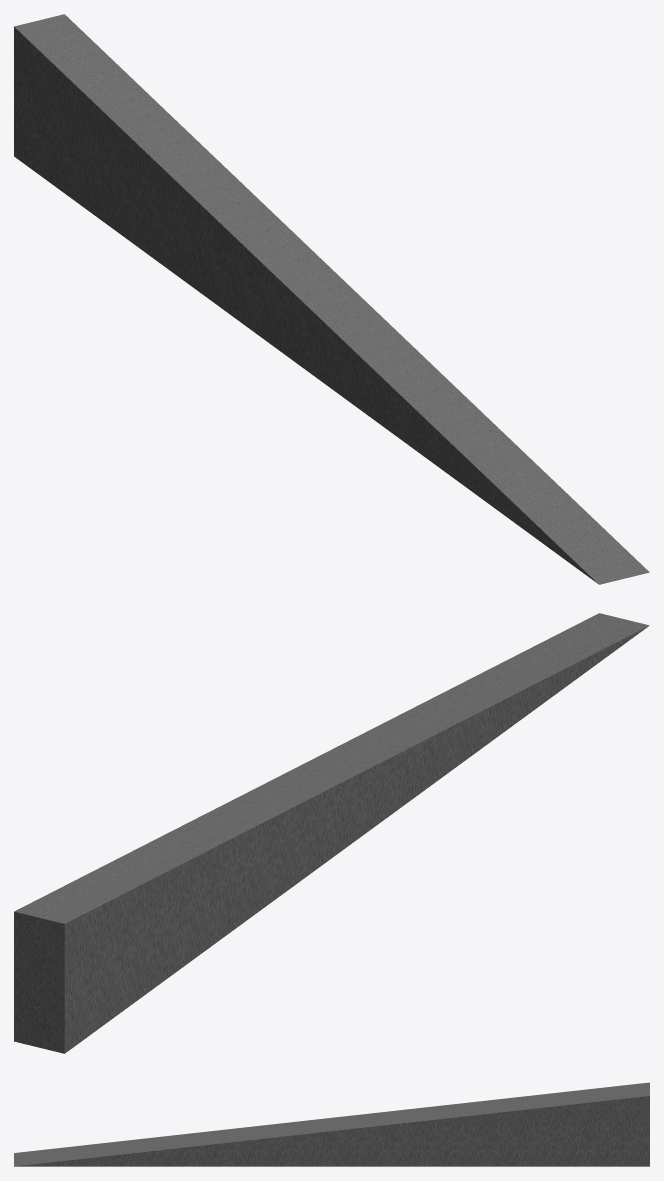
File: ramp20.glb
3 views of the same model, one above another, from view 1: azimuth 30°, elevation 25°; view 2: azimuth 150°, elevation 25°; view 3: azimuth 270°, elevation 25° (orthographic). The views are drawn at different scales.
Parts seen in each view (by area): view 1: Segment20, Segment19, Segment18, Segment17, Segment16, Segment15, Segment14, Segment13, Segment12, Segment11, Segment10, Segment9 (+8 smaller); view 2: Segment20, Segment19, Segment18, Segment17, Segment16, Segment15, Segment14, Segment13, Segment12, Segment11, Segment10, Segment9 (+8 smaller); view 3: Segment20, Segment19, Segment18, Segment17, Segment16, Segment15, Segment14, Segment13, Segment12, Segment11, Segment10, Segment9 (+8 smaller).
Part boxes in pixels (x1=…): Segment20: x1=14, y1=14, x2=93, y2=177; Segment19: x1=43, y1=42, x2=122, y2=198; Segment18: x1=72, y1=70, x2=151, y2=220; Segment17: x1=101, y1=98, x2=181, y2=241; Segment16: x1=131, y1=126, x2=210, y2=262; Segment15: x1=160, y1=153, x2=239, y2=284; Segment14: x1=189, y1=181, x2=268, y2=305; Segment13: x1=219, y1=209, x2=298, y2=327; Segment12: x1=248, y1=237, x2=327, y2=348; Segment11: x1=277, y1=265, x2=356, y2=370; Segment10: x1=306, y1=293, x2=386, y2=391; Segment9: x1=336, y1=321, x2=415, y2=412; Segment20: x1=14, y1=896, x2=93, y2=1053; Segment19: x1=44, y1=881, x2=123, y2=1031; Segment18: x1=73, y1=867, x2=152, y2=1010; Segment17: x1=102, y1=852, x2=181, y2=989; Segment16: x1=131, y1=837, x2=210, y2=967; Segment15: x1=161, y1=822, x2=240, y2=946; Segment14: x1=190, y1=807, x2=269, y2=924; Segment13: x1=219, y1=792, x2=298, y2=903; Segment12: x1=248, y1=777, x2=327, y2=882; Segment11: x1=278, y1=762, x2=357, y2=860; Segment10: x1=307, y1=747, x2=386, y2=839; Segment9: x1=336, y1=732, x2=415, y2=817; Segment20: x1=618, y1=1082, x2=649, y2=1166; Segment19: x1=586, y1=1086, x2=618, y2=1166; Segment18: x1=554, y1=1089, x2=586, y2=1166; Segment17: x1=522, y1=1093, x2=554, y2=1166; Segment16: x1=491, y1=1096, x2=522, y2=1166; Segment15: x1=459, y1=1100, x2=490, y2=1166; Segment14: x1=427, y1=1103, x2=459, y2=1166; Segment13: x1=395, y1=1107, x2=427, y2=1166; Segment12: x1=363, y1=1110, x2=395, y2=1166; Segment11: x1=332, y1=1114, x2=363, y2=1166; Segment10: x1=300, y1=1117, x2=331, y2=1166; Segment9: x1=268, y1=1121, x2=300, y2=1166.
Size of the model in its own units: 1 by 2.45 by 20.
1 material, 1 textured.
